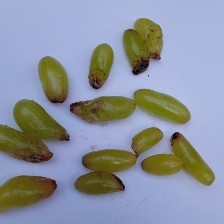grapes: (28, 18, 182, 210)
